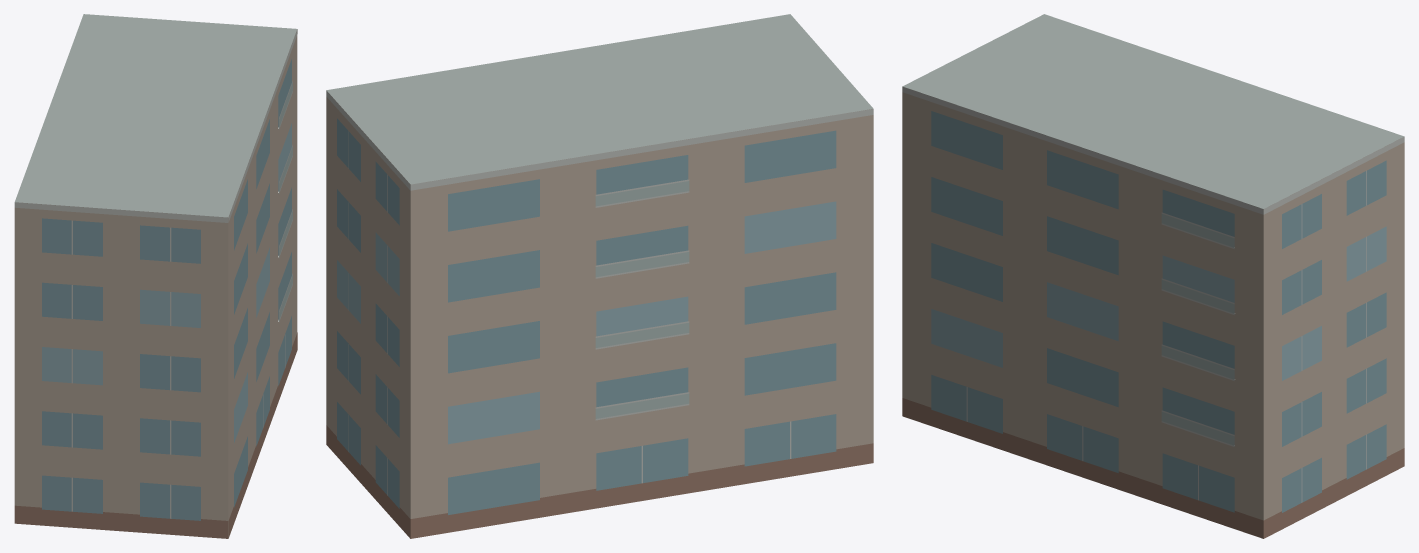
Rendered from survey-upis-32819034.glb.
The picture shows the model from 3 angles, left to right: view 1: azimuth 30°, elevation 25°; view 2: azimuth 150°, elevation 25°; view 3: azimuth 270°, elevation 25°; orthographic projection. The views are drawn at different scales.
Visible parts, largest first — view 1: survey-upis-32819034.tmp; view 2: survey-upis-32819034.tmp; view 3: survey-upis-32819034.tmp.
Boxes of the visible parts, x1=… form: survey-upis-32819034.tmp: x1=14, y1=14, x2=297, y2=538; survey-upis-32819034.tmp: x1=326, y1=14, x2=873, y2=538; survey-upis-32819034.tmp: x1=902, y1=14, x2=1404, y2=538.
Bounding box in the file's own units: 17.83 × 14.05 × 19.4.
